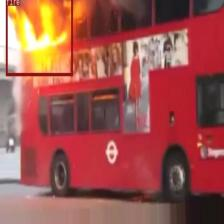fire: (5, 0, 72, 75)
